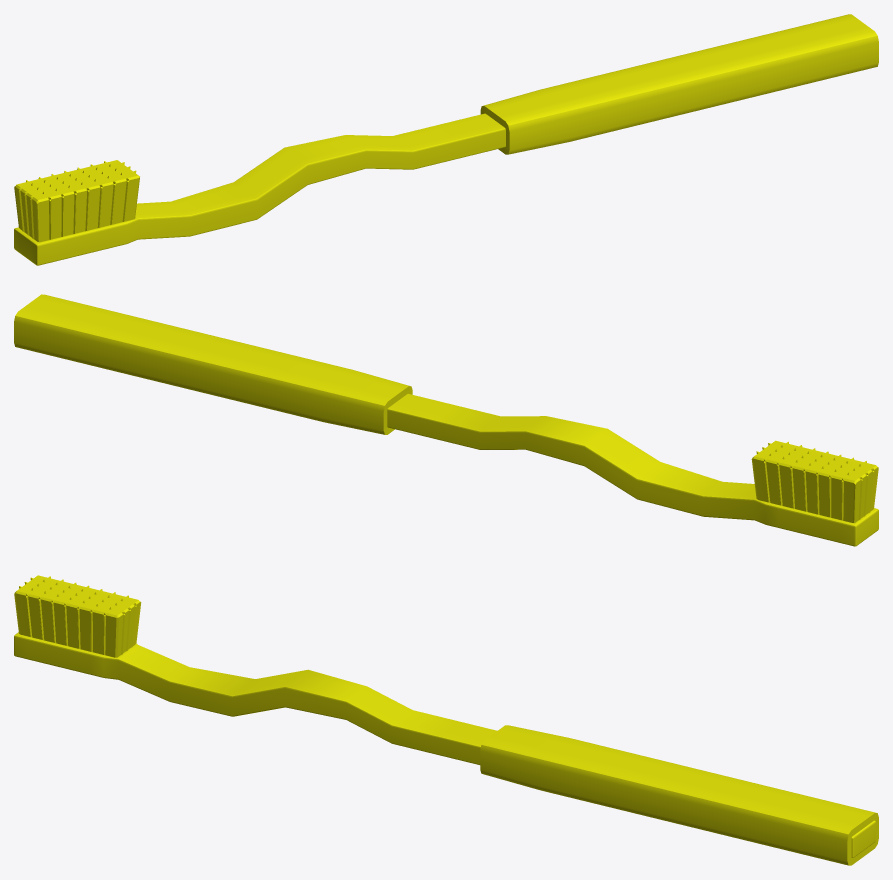
File: Tipo1_Mesh.fbx
3 renders of one model, top to bottom at view 1: azimuth 30°, elevation 25°; view 2: azimuth 150°, elevation 25°; view 3: azimuth 330°, elevation 25°, orthographic.
Parts seen in each view (by area): view 1: Escova_Tipo1_1; view 2: Escova_Tipo1_1; view 3: Escova_Tipo1_1.
Part boxes in pixels (x1,y1,x2,y2): Escova_Tipo1_1: [14, 14, 878, 265]; Escova_Tipo1_1: [14, 294, 878, 546]; Escova_Tipo1_1: [14, 575, 878, 865].
Bounding box in the file's own units: 2.03 × 0.1774 × 0.132.
